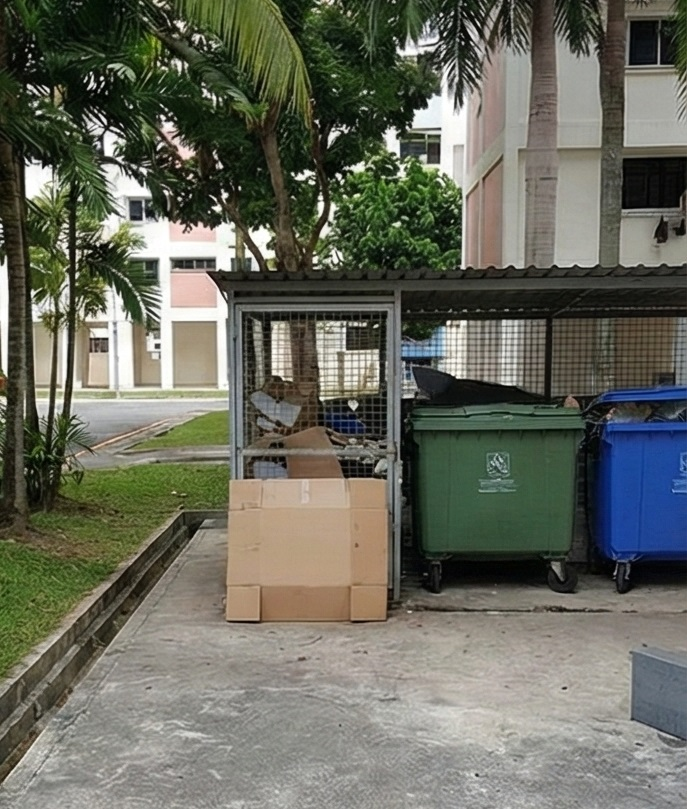bin_empty: (411, 404, 582, 591), (592, 386, 686, 592)
bulk_waste: (227, 478, 389, 620)
